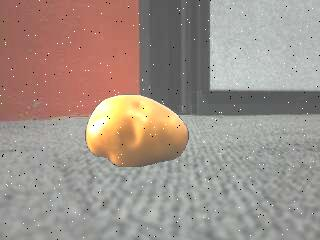Potato: (86, 93, 189, 168)
